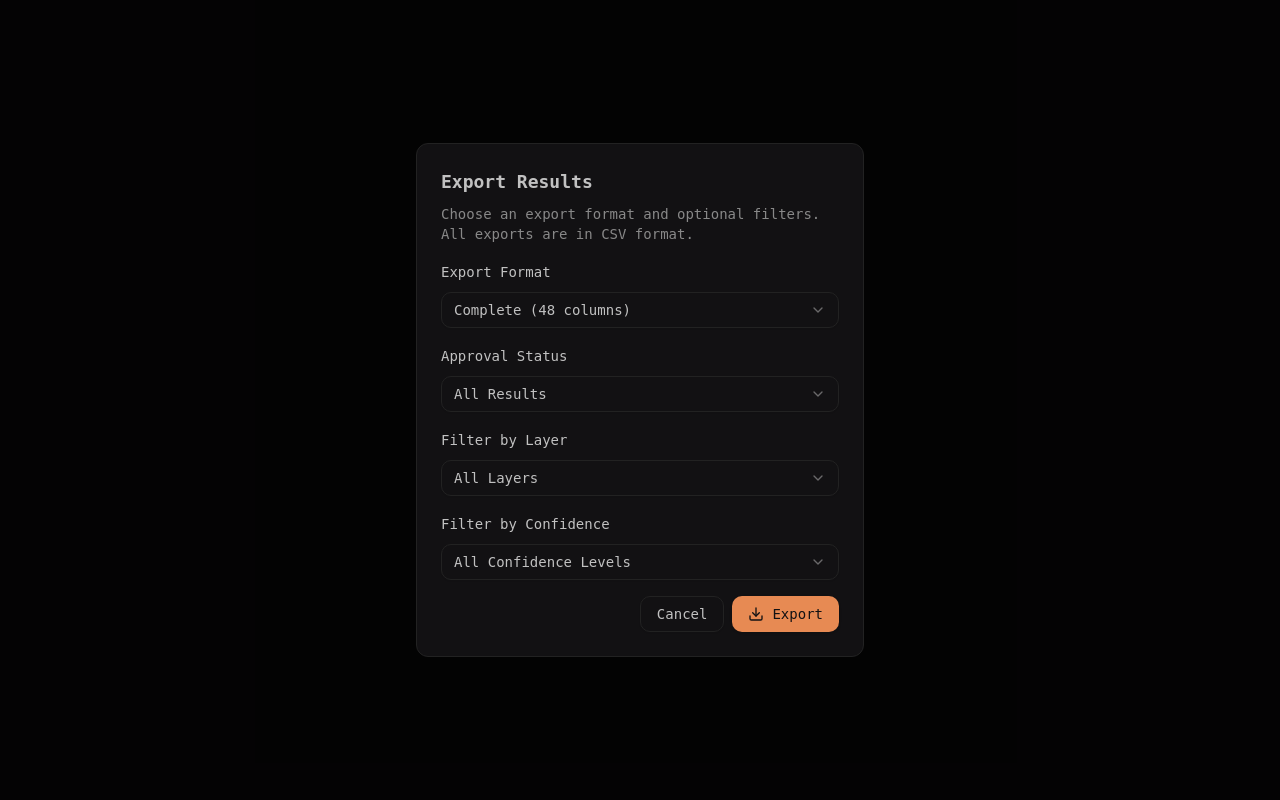
CSV Export Integration Tests › Error Handling Integration › should handle network error during export
Click the button "Export".
click(786, 614)  # box [732,596,839,632]
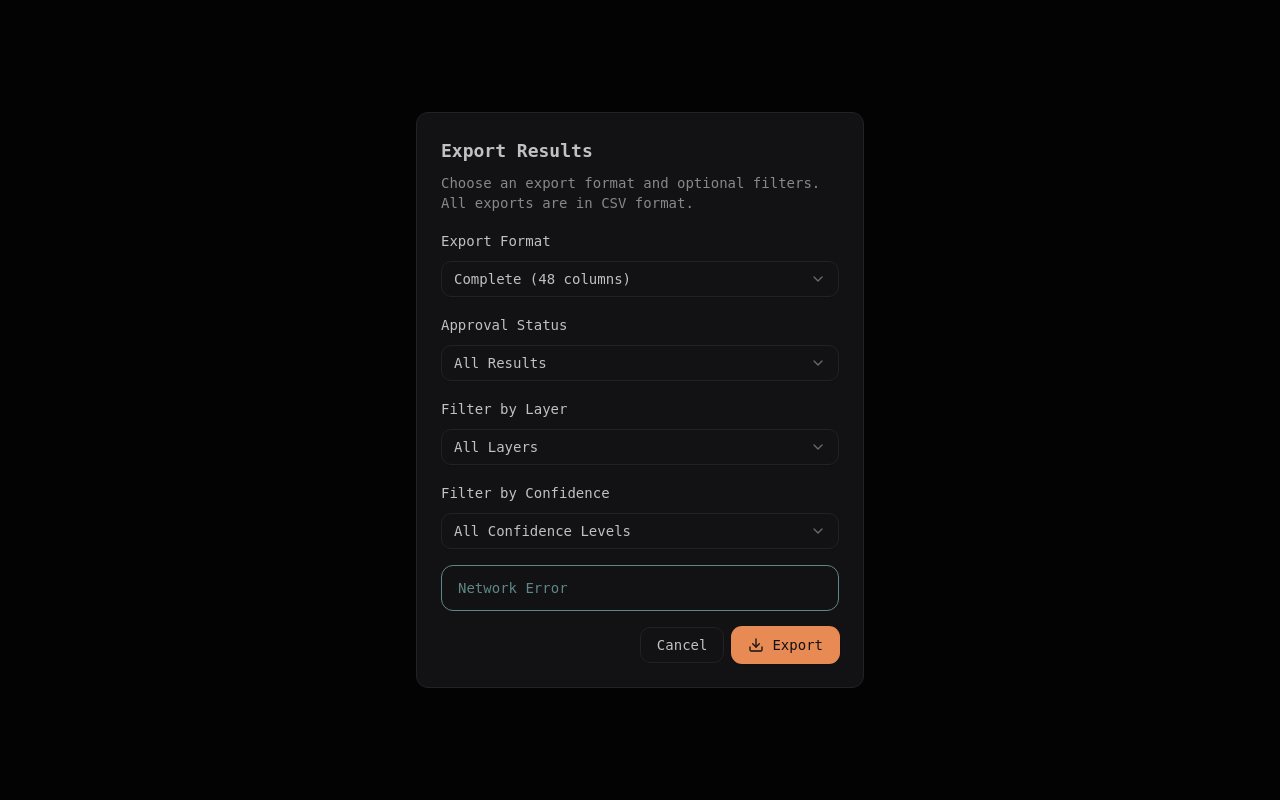
Expected: the text "Network Error" is shown, [458,580,568,596]
